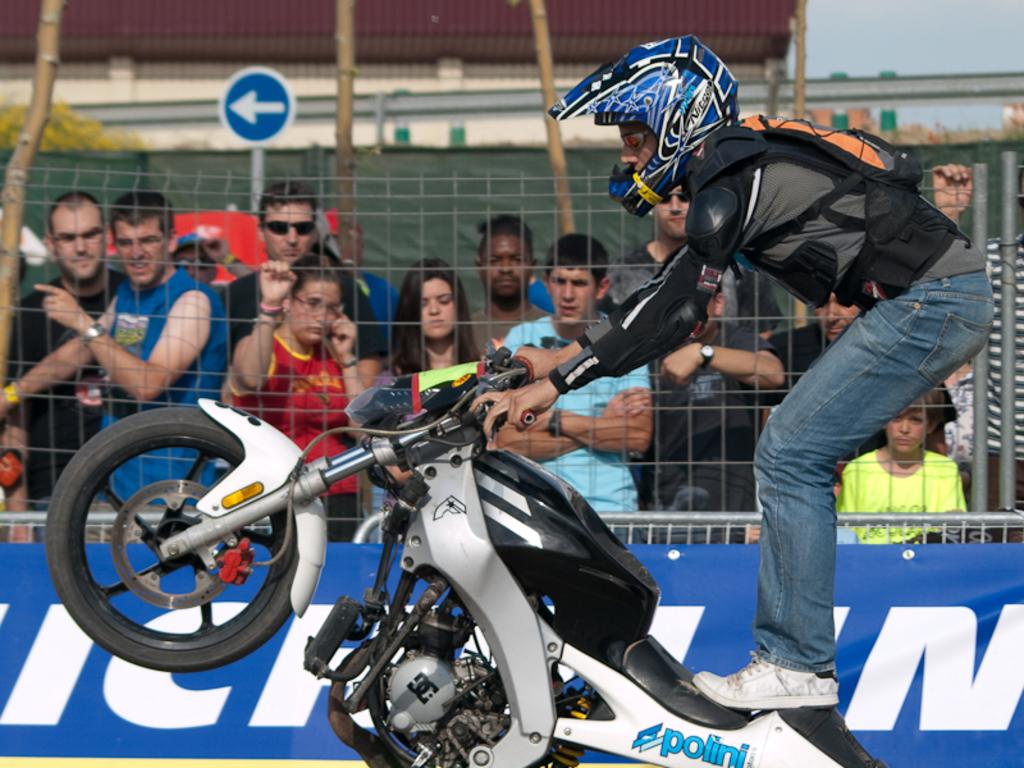helmet: (547, 34, 740, 218)
nohelmet: (108, 190, 180, 291), (540, 232, 612, 330), (44, 189, 112, 287), (399, 257, 470, 344), (255, 179, 320, 273), (279, 253, 344, 347), (474, 213, 539, 303)
